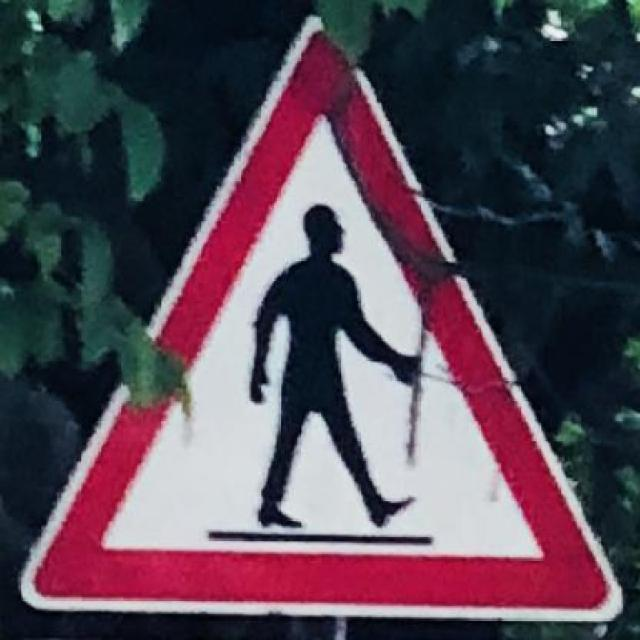pedestrian crossing: (43, 13, 592, 618)
